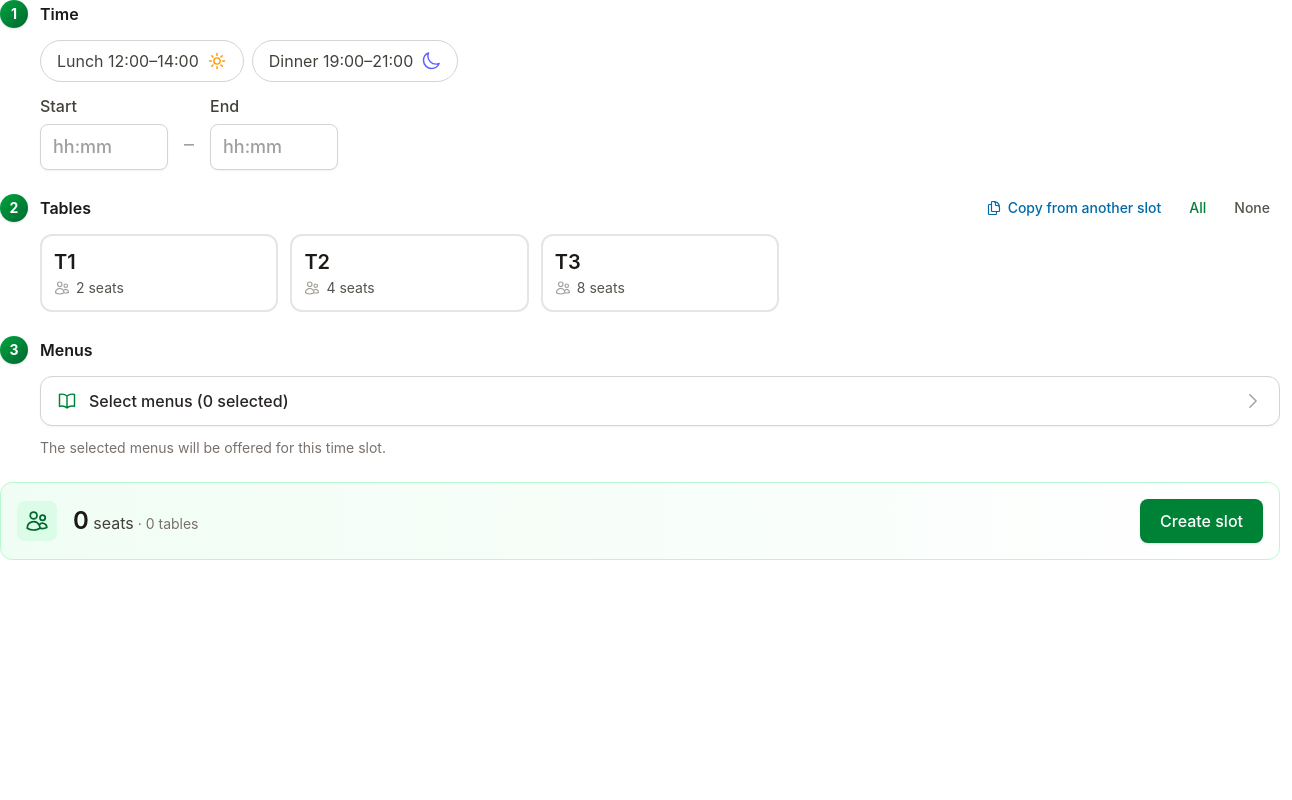
Test case: CreateSlotForm › menus for a slot (MH-116) › allows selecting multiple predefined menus and sends their ids
Step 1. Click the heading "Select menus (0 selected)" → (146, 401), box [57,391,1263,411]
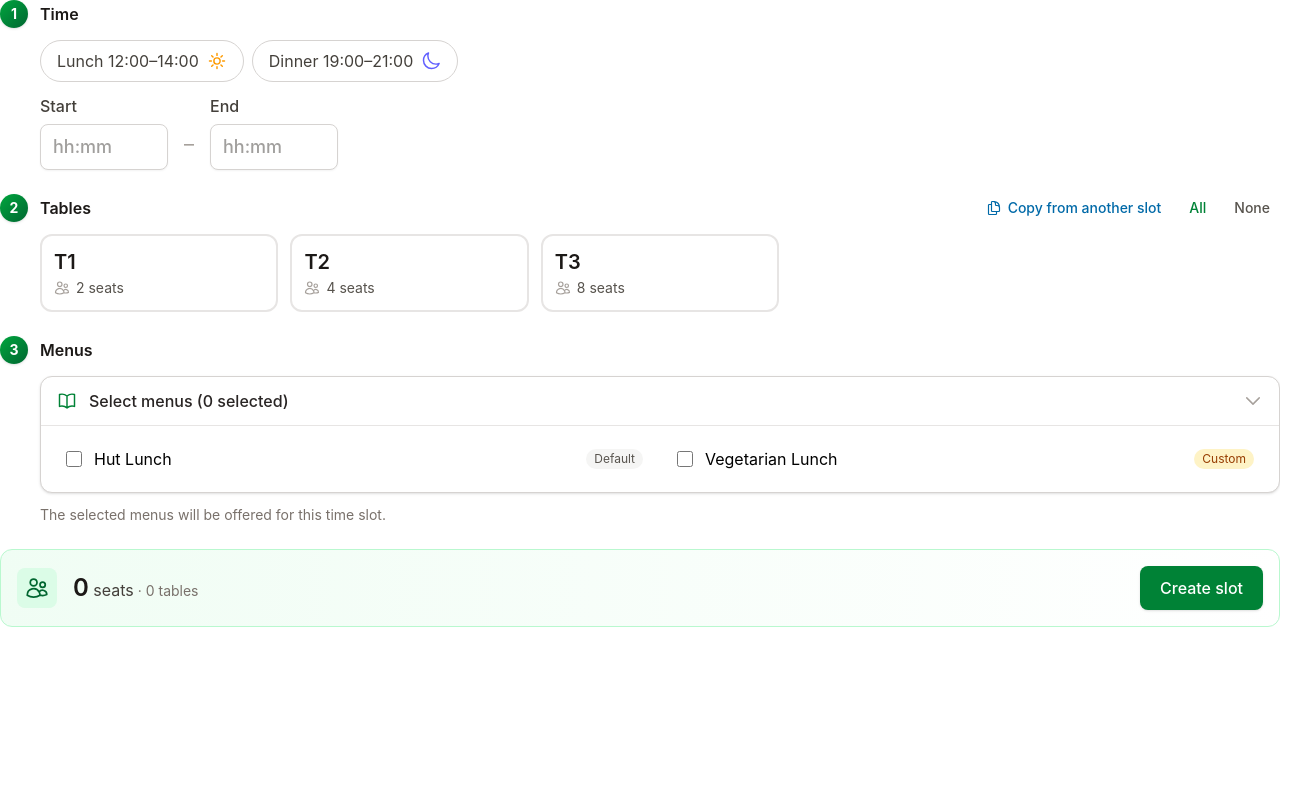
Step 2. Click the checkbox labelled "Hut Lunch Default" → (74, 459), box [66,451,82,467]
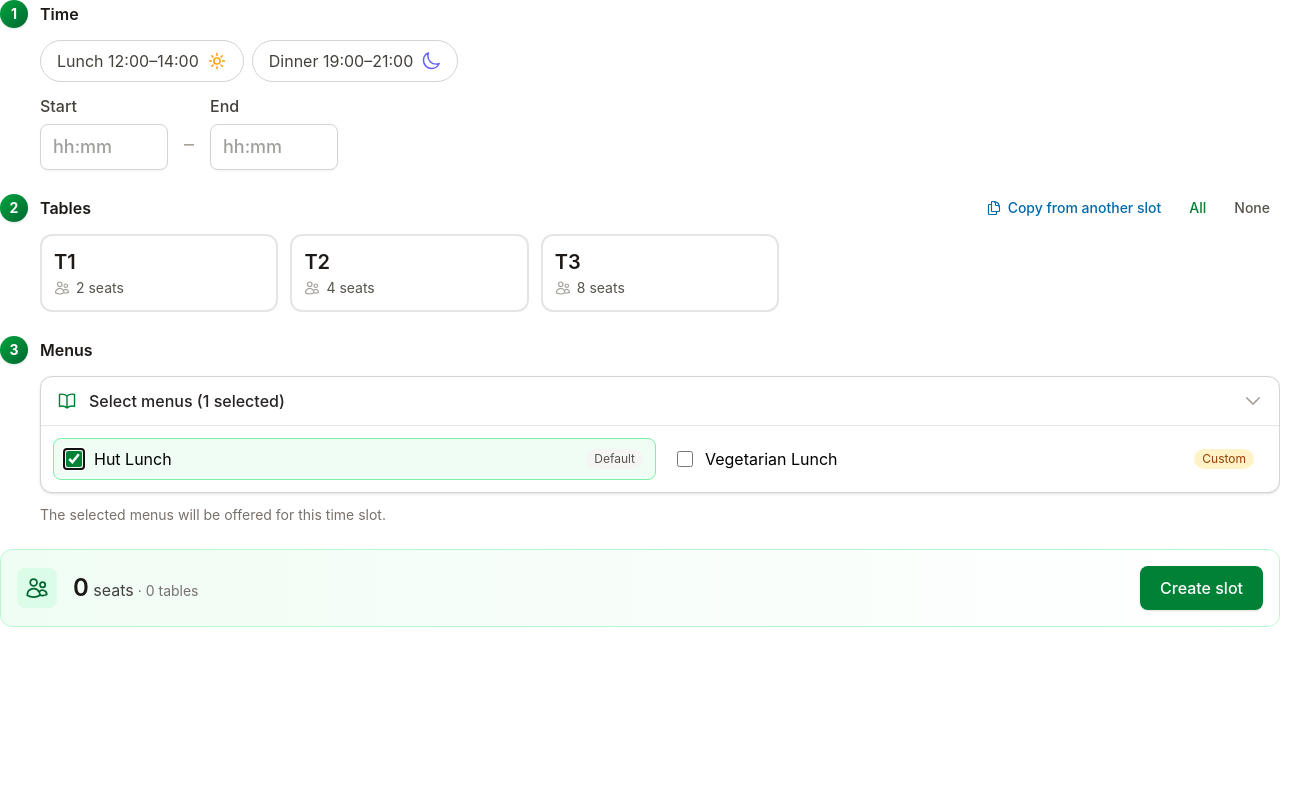
Step 3. Click the checkbox labelled "Vegetarian Lunch Custom" → (685, 459), box [677,451,693,467]
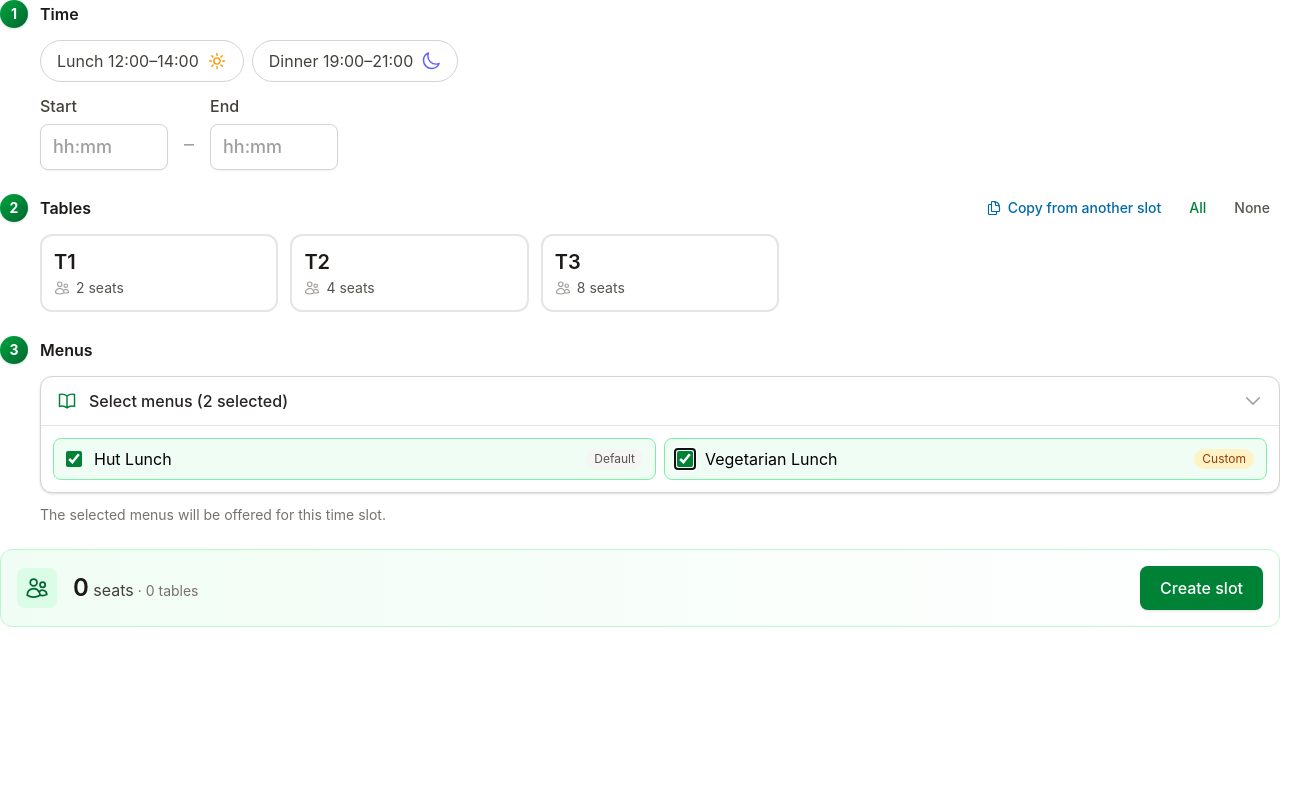
Step 4. Click the button "Lunch 12:00–14:00" → (142, 61), box [40,40,244,82]
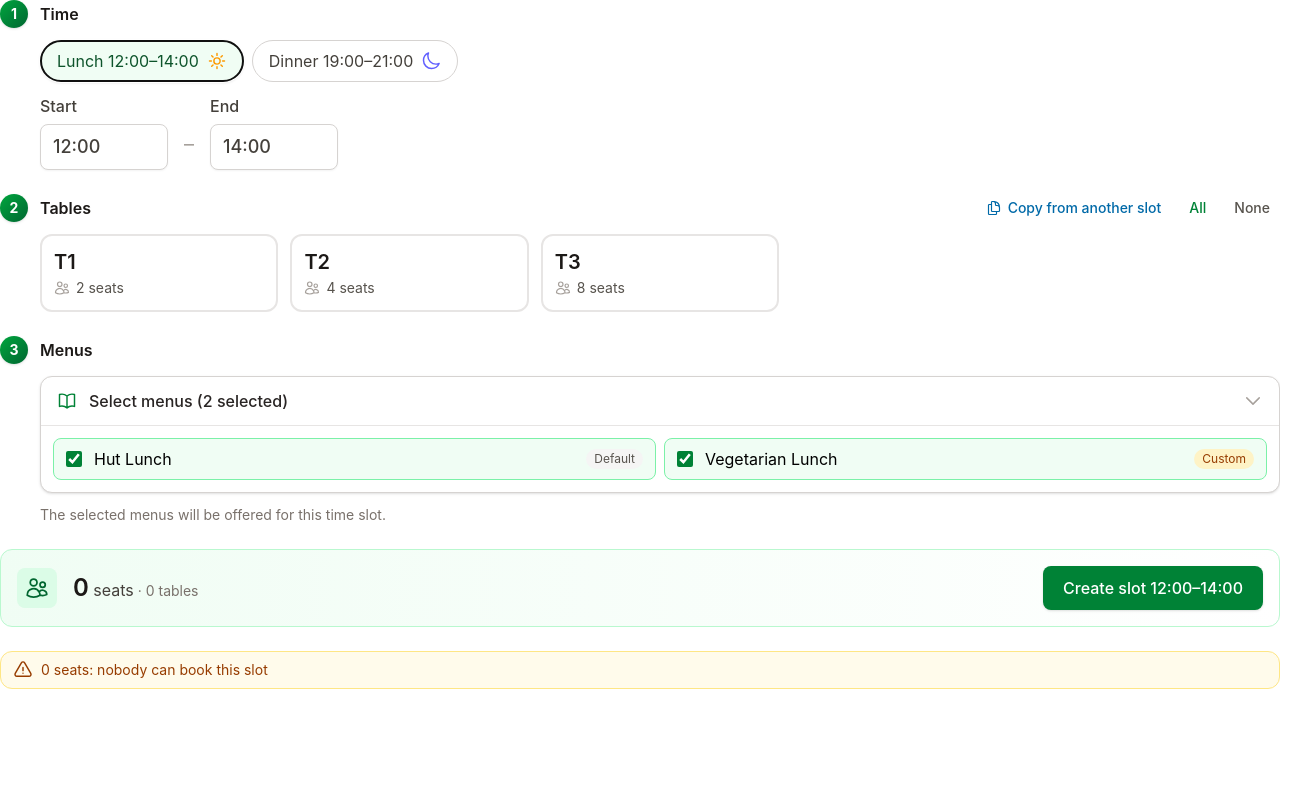
Step 5. Click the button "Create slot 12:00–14:00" → (1153, 588), box [1043,566,1263,610]
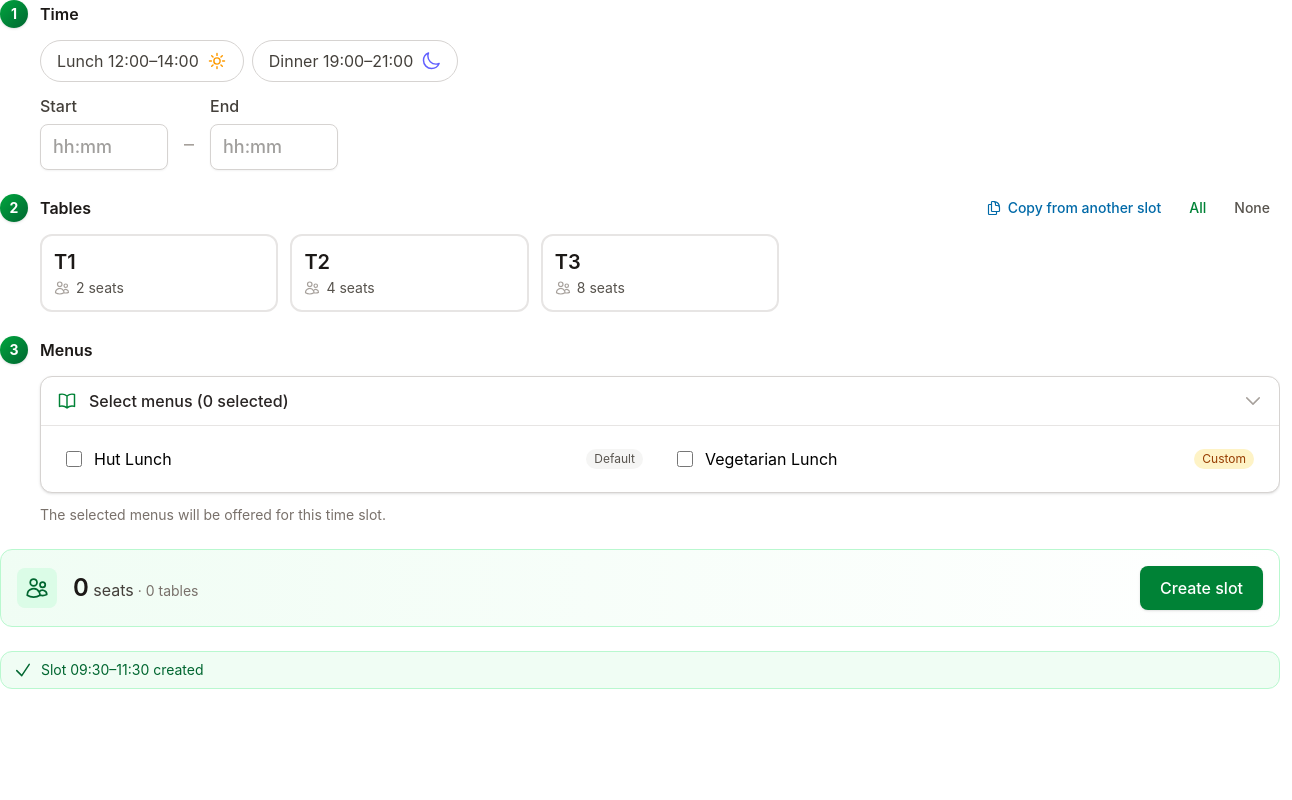
expect the heading "Select menus (0 selected)" is shown: met, box [57,391,1263,411]
